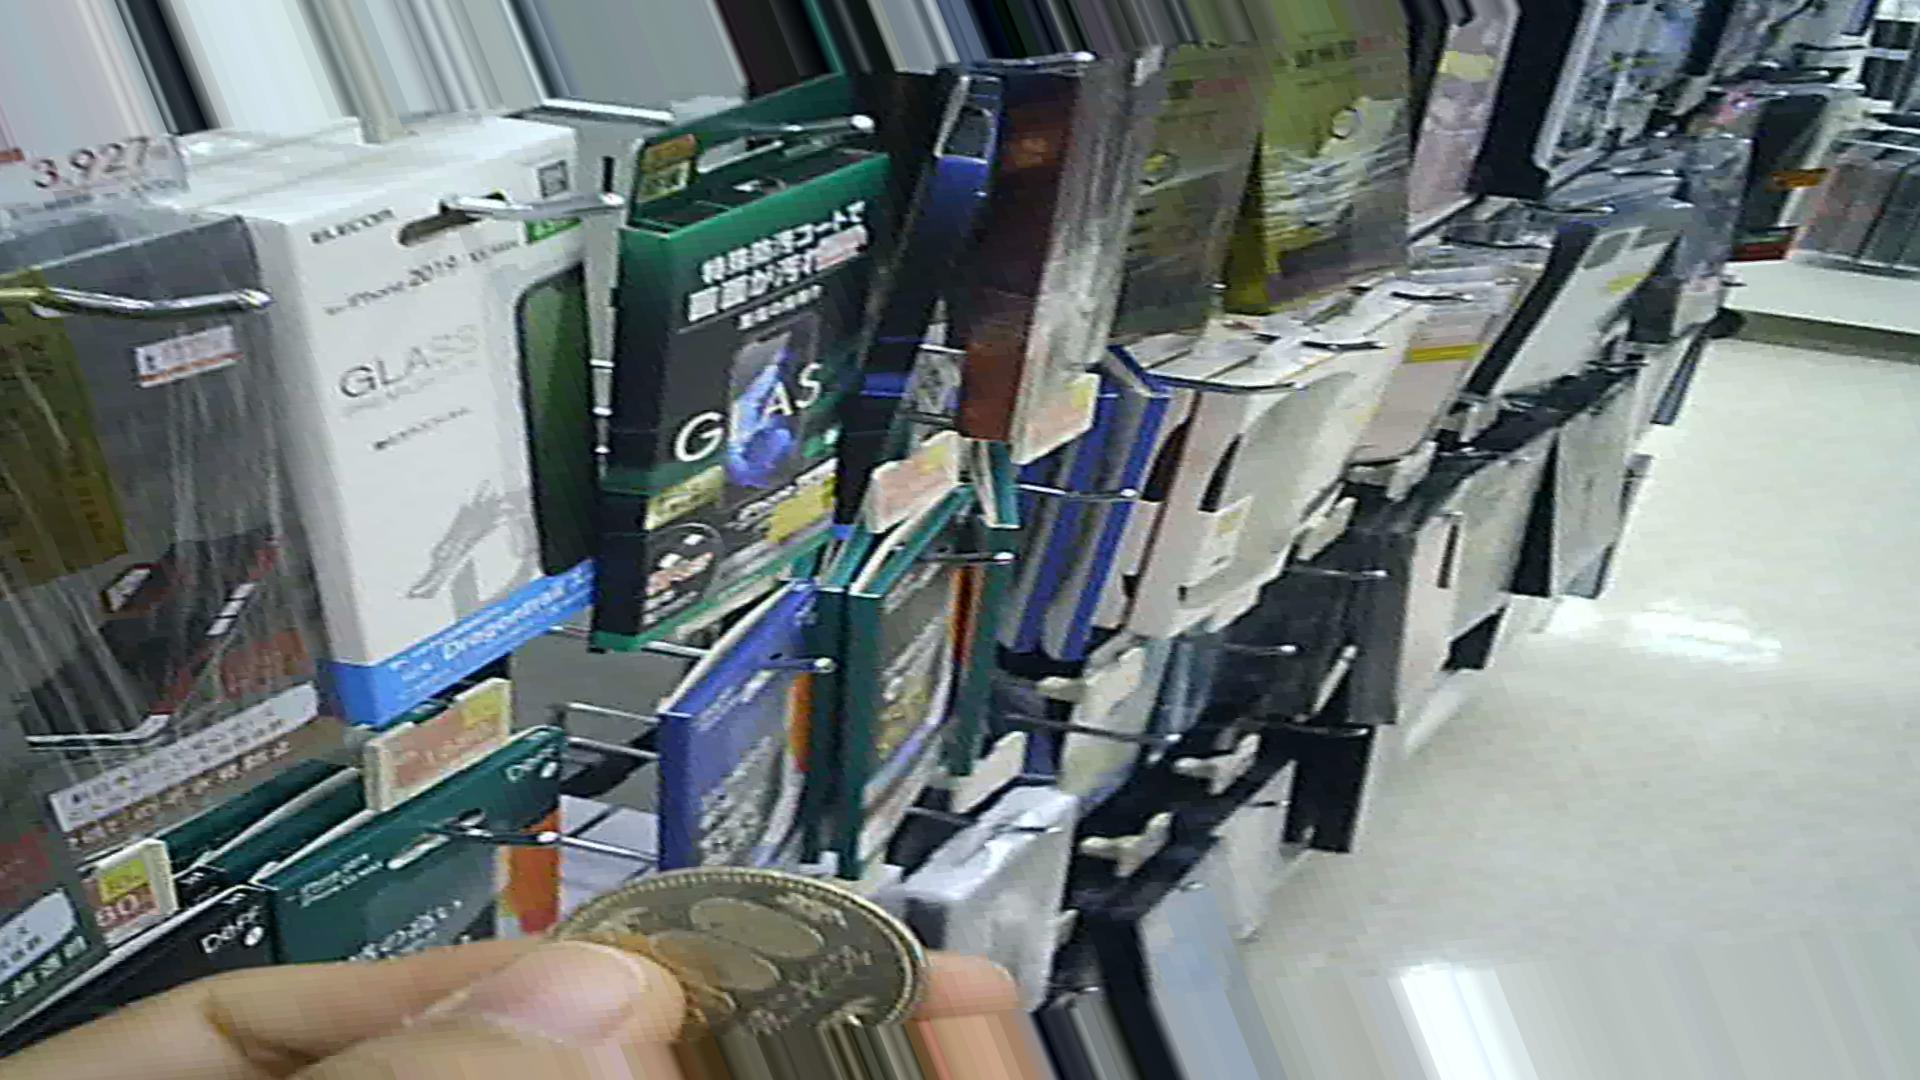500 Yen: (539, 852, 928, 1048)
